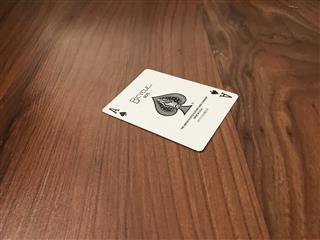AceOfSpades: (101, 67, 238, 152)
